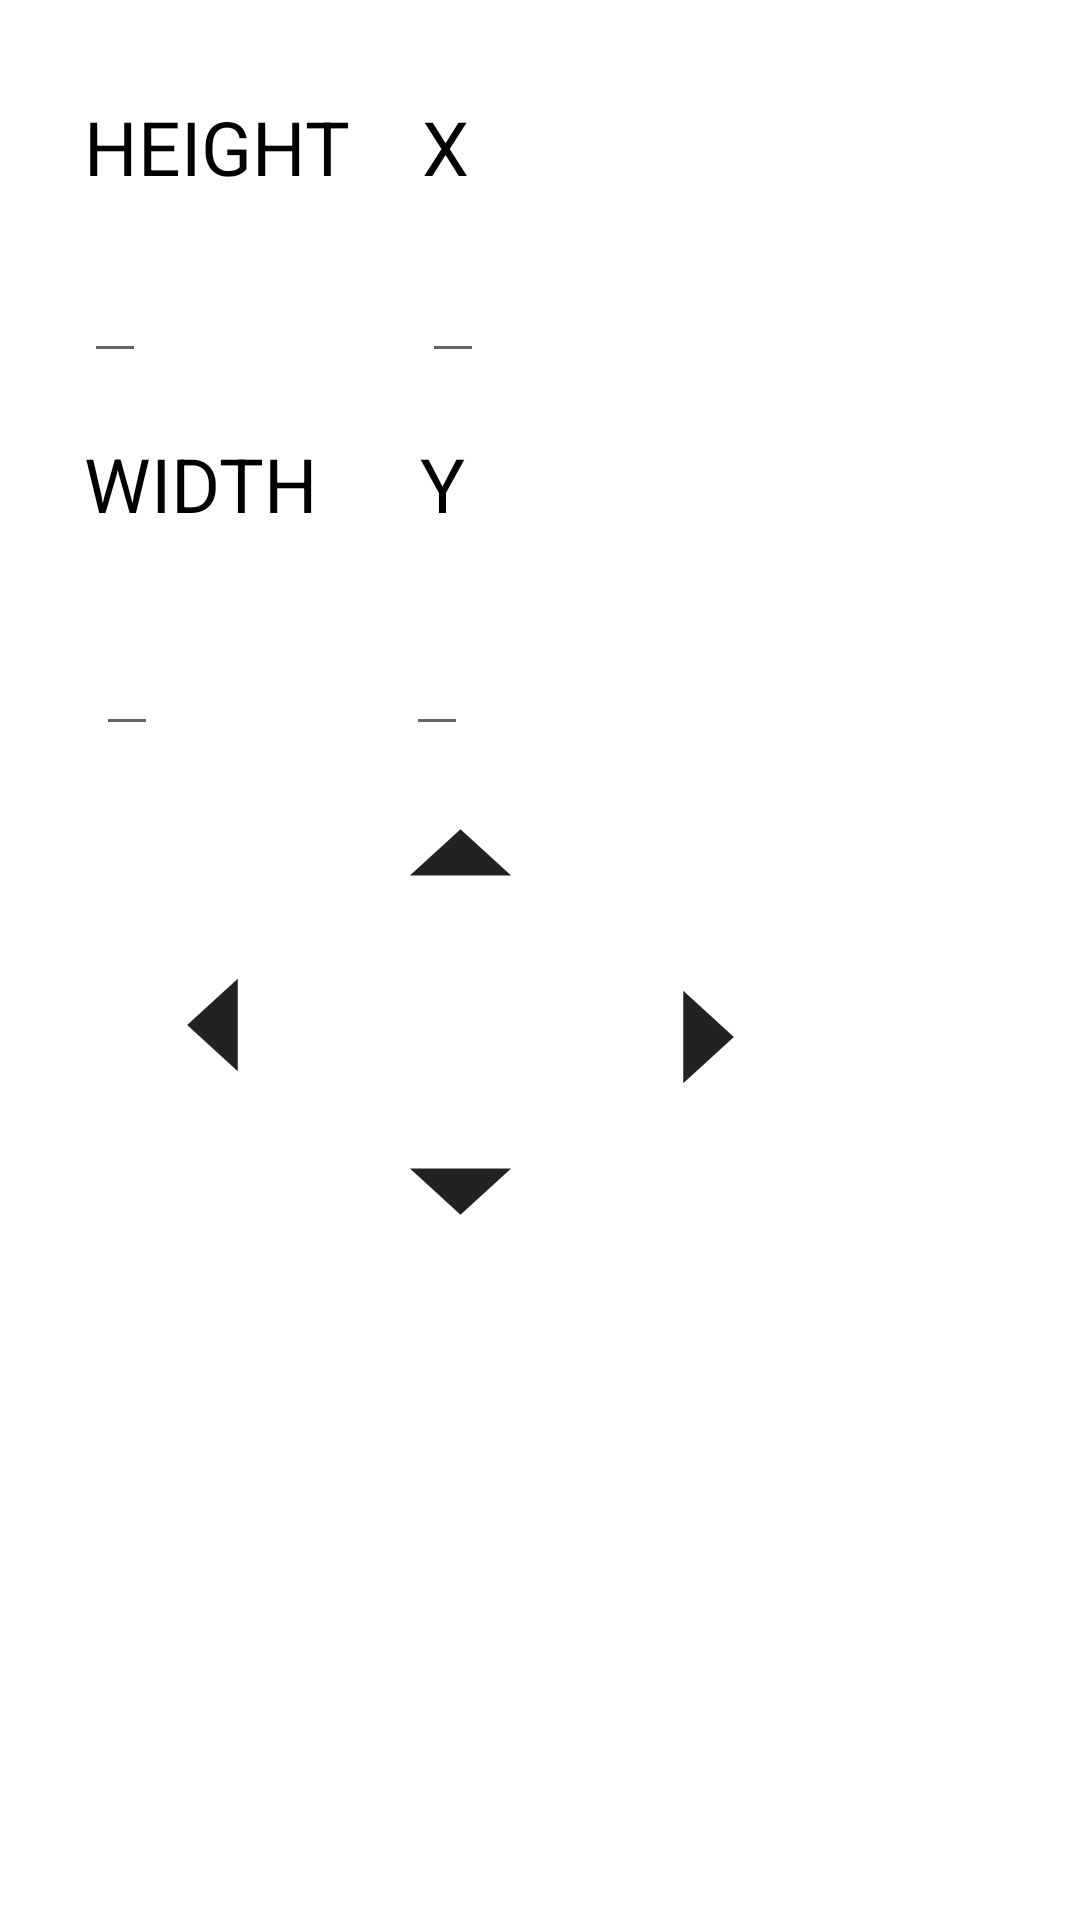

Icon bounding boxes for this 1080x1920 phone screenshot, format (x1, y1, x2, y2):
arrow drop down: (410, 1168, 511, 1215)
arrow drop up: (410, 829, 511, 876)
arrow left: (187, 979, 238, 1071)
arrow right: (683, 991, 734, 1083)
